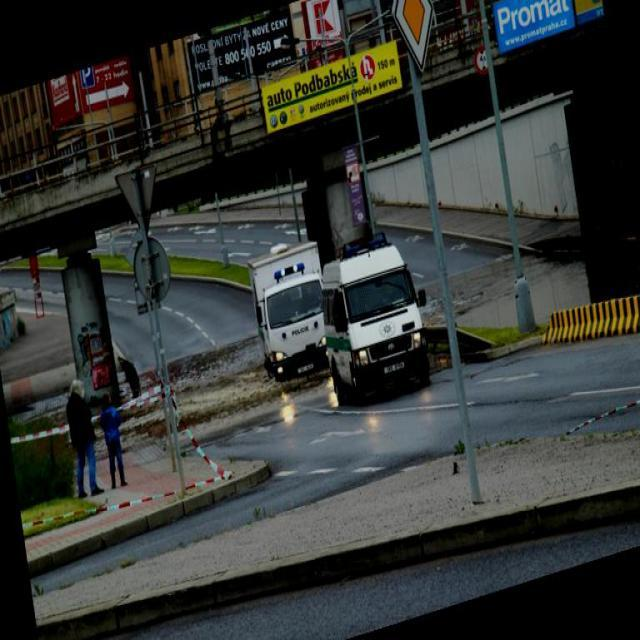flood: (114, 329, 275, 453)
